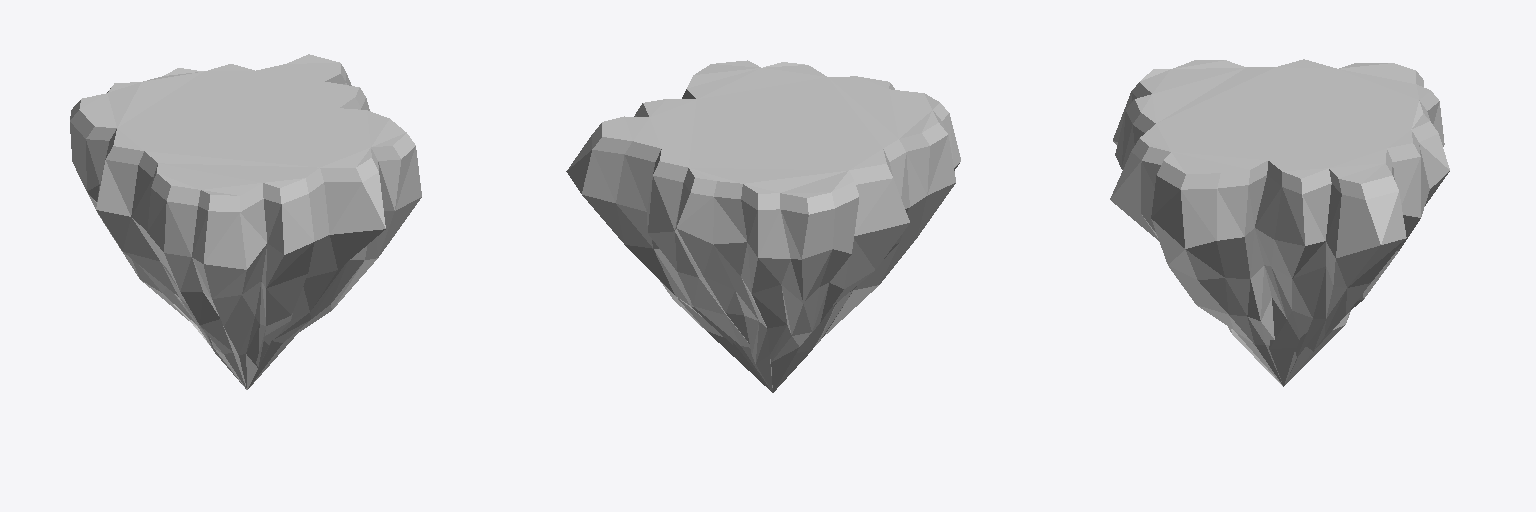
The model's file is floatingIsland.obj.
3 views of the same model, side by side, from view 1: azimuth 30°, elevation 25°; view 2: azimuth 150°, elevation 25°; view 3: azimuth 270°, elevation 25° (orthographic).
Parts seen in each view (by area): view 1: Plane; view 2: Plane; view 3: Plane.
Part boxes in pixels (bbox=[...]): Plane: bbox=[70, 54, 421, 389]; Plane: bbox=[566, 60, 960, 392]; Plane: bbox=[1110, 59, 1449, 386].
Size of the model in its own units: 1.62 by 1.37 by 1.58.